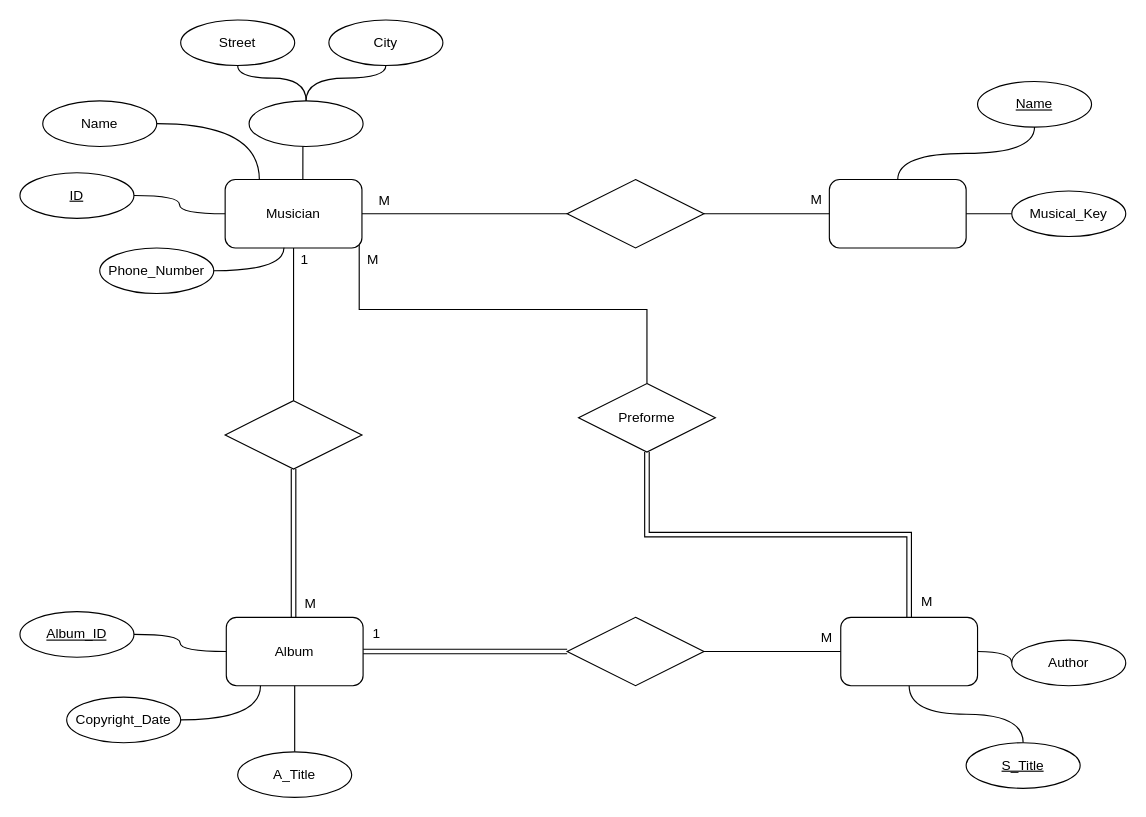
Image size: 1146x817. Some labels were removed from this diagram. Each missing label, with the centre of its shape:
"Adress" goes at [305,123].
"Has" goes at [635,651].
"Instruments" goes at [897,213].
"Play" goes at [635,213].
"Produce" goes at [293,434].
"Song" goes at [909,651].
